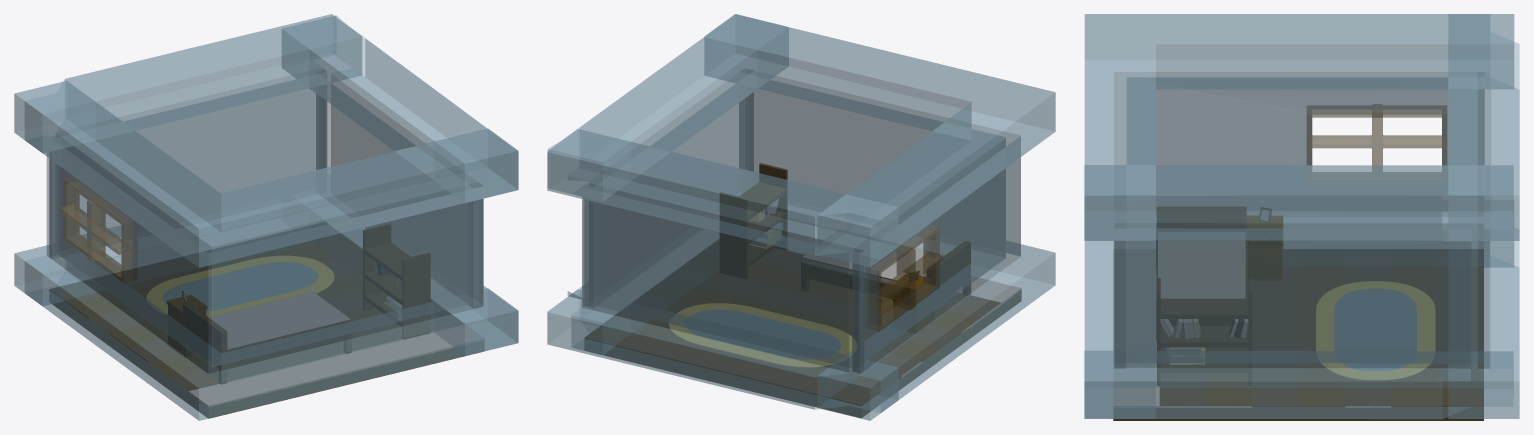
File: room2.fbx
3 views of the same model, side by side, from view 1: azimuth 30°, elevation 25°; view 2: azimuth 150°, elevation 25°; view 3: azimuth 270°, elevation 25° (orthographic). The views are drawn at different scales.
Visible parts, largest first — view 1: Wall, Wall2, Wall1, bed, rug, FloorBoard, Base, pCube8, FloorBoard1, Frame, FloorBoard7, FloorBoard6 (+6 smaller); view 2: Wall, Wall2, Wall1, rug, FloorBoard7, bed, FloorBoard3, Base, pCube8, FloorBoard2, Frame, FloorBoard4 (+6 smaller); view 3: Wall1, Wall, Wall2, rug, bed, FloorBoard7, FloorBoard, FloorBoard3, FloorBoard4, pCube8, Base, FloorBoard6 (+6 smaller).
Boxes of the visible parts, box(x1,y1,x2,y2) form: Wall: box(14, 81, 518, 420); Wall2: box(25, 14, 361, 305); Wall1: box(282, 15, 518, 355); bed: box(183, 292, 351, 383); rug: box(146, 256, 334, 316); FloorBoard: box(189, 324, 484, 406); Base: box(52, 301, 482, 418); pCube8: box(363, 224, 430, 339); FloorBoard1: box(169, 310, 463, 391); Frame: box(63, 176, 136, 283); FloorBoard7: box(49, 230, 343, 304); FloorBoard6: box(69, 237, 362, 318); Wall: box(704, 14, 1055, 420); Wall2: box(547, 129, 898, 412); Wall1: box(548, 14, 788, 354); rug: box(668, 303, 856, 367); FloorBoard7: box(584, 323, 880, 406); bed: box(801, 230, 970, 321); FloorBoard3: box(666, 265, 961, 347); Base: box(603, 290, 1021, 417); pCube8: box(720, 163, 787, 278); FloorBoard2: box(686, 250, 981, 332); Frame: box(865, 224, 939, 331); FloorBoard4: box(645, 279, 941, 362); Wall1: box(1084, 165, 1513, 419); Wall: box(1084, 14, 1514, 418); Wall2: box(1448, 14, 1519, 418); rug: box(1316, 281, 1435, 379); bed: box(1156, 207, 1246, 340); FloorBoard7: box(1437, 249, 1483, 407); FloorBoard: box(1113, 249, 1159, 407); FloorBoard3: box(1252, 249, 1298, 407); FloorBoard4: box(1298, 249, 1344, 407); pCube8: box(1157, 278, 1251, 385); Base: box(1113, 407, 1483, 420); FloorBoard6: box(1391, 249, 1437, 407).
Size of the model in its own units: 27.99 by 16.99 by 28.19.
